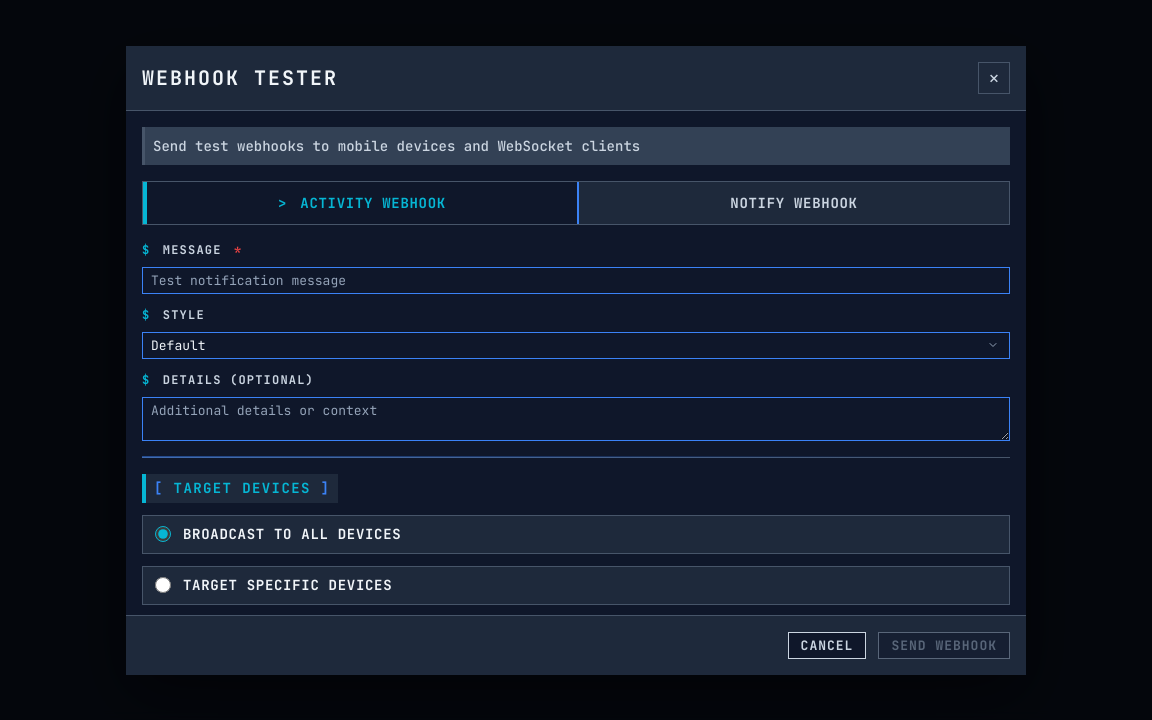
Test: WebhookTesterModal › User Interactions › should show notify form when notify tab is clicked
The image size is (1152, 720).
Click the button "NOTIFY WEBHOOK". click: {"x": 794, "y": 203}
box: x1=579 y1=182 x2=1009 y2=224
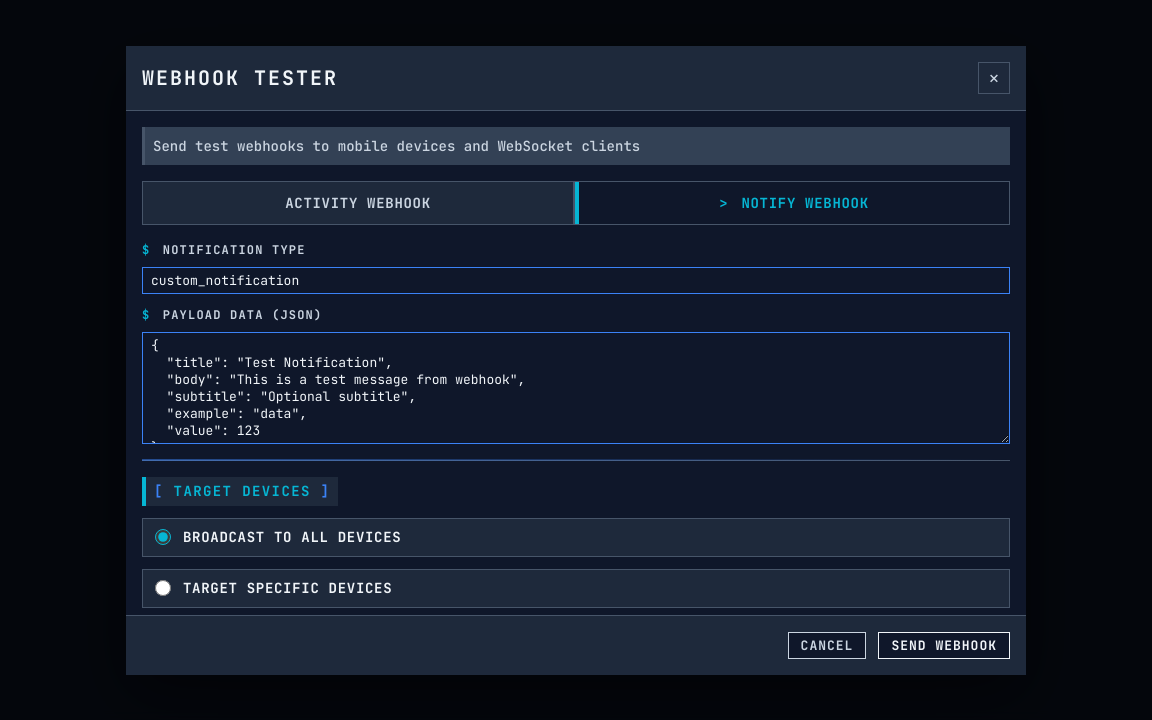
Now the text "NOTIFICATION TYPE" is shown, box x1=163 y1=242 x2=306 y2=258
Now the text "PAYLOAD DATA (JSON)" is shown, box x1=163 y1=307 x2=322 y2=323
